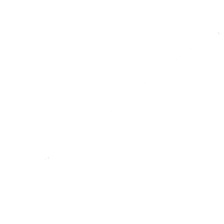drinking_straw: (0, 22, 223, 202)
